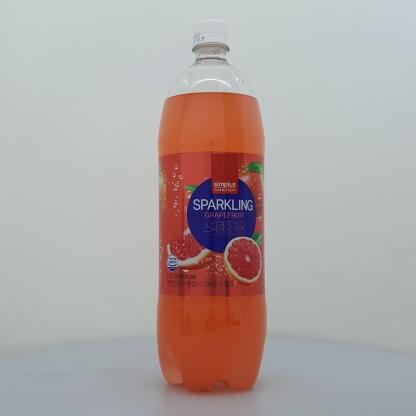--------------: (156, 19, 267, 393)
